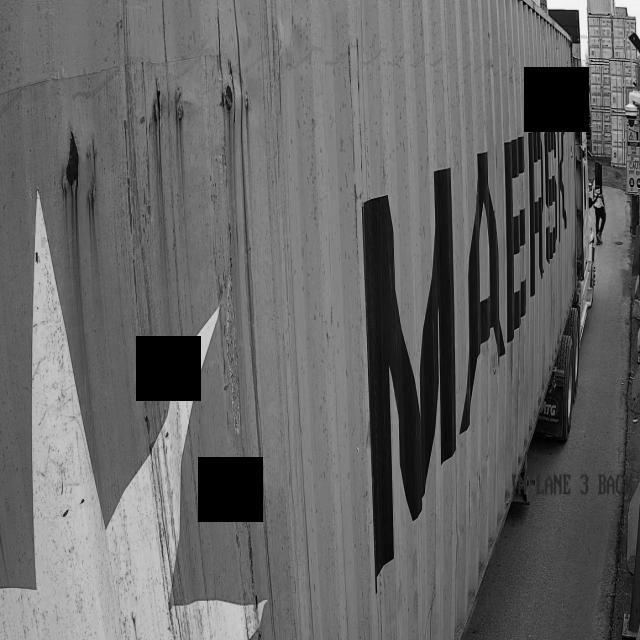container_company_logo: (363, 168, 457, 571), (459, 111, 573, 432)
driver: (592, 150, 615, 249)
truck_with_container: (0, 0, 594, 640)
